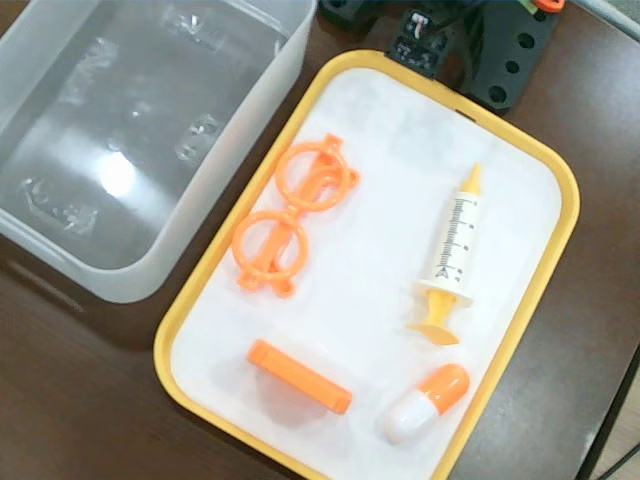pill: (383, 363, 473, 446)
syringe: (403, 159, 487, 349)
